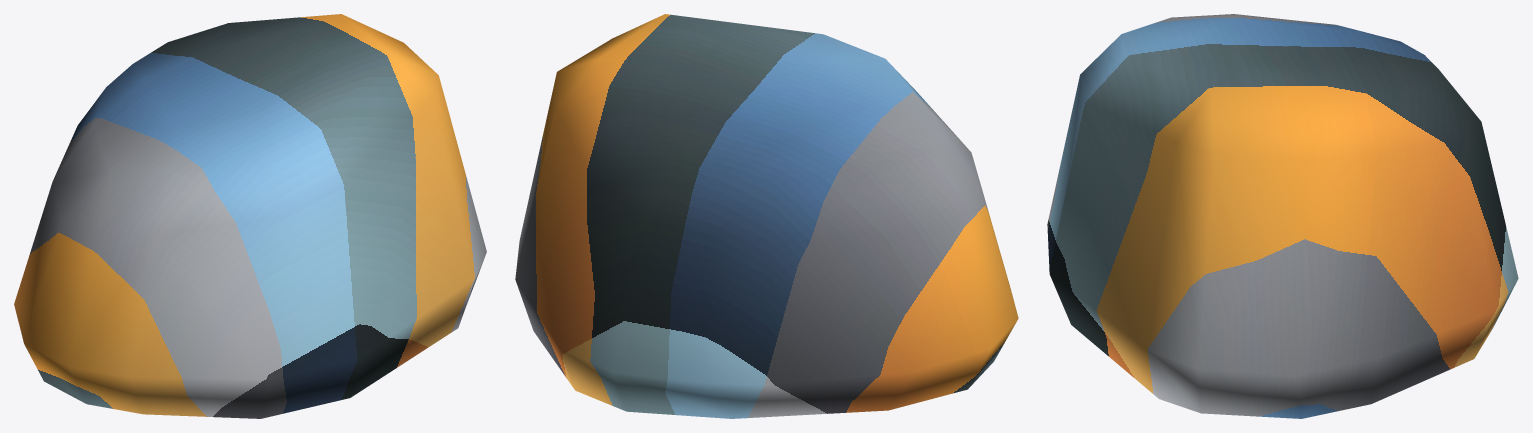
File: Prop_Rock.glb
3 renders of one model, left to right at view 1: azimuth 30°, elevation 25°; view 2: azimuth 150°, elevation 25°; view 3: azimuth 270°, elevation 25°, orthographic. The views are drawn at different scales.
Visible parts, largest first — view 1: Prop_Rock; view 2: Prop_Rock; view 3: Prop_Rock.
Boxes of the visible parts, <box> form: Prop_Rock: <box>14,14,486,418</box>; Prop_Rock: <box>515,14,1018,418</box>; Prop_Rock: <box>1047,14,1518,418</box>.
Bounding box in the file's own units: 2.12 × 1.33 × 1.82.
1 material, 1 textured.
